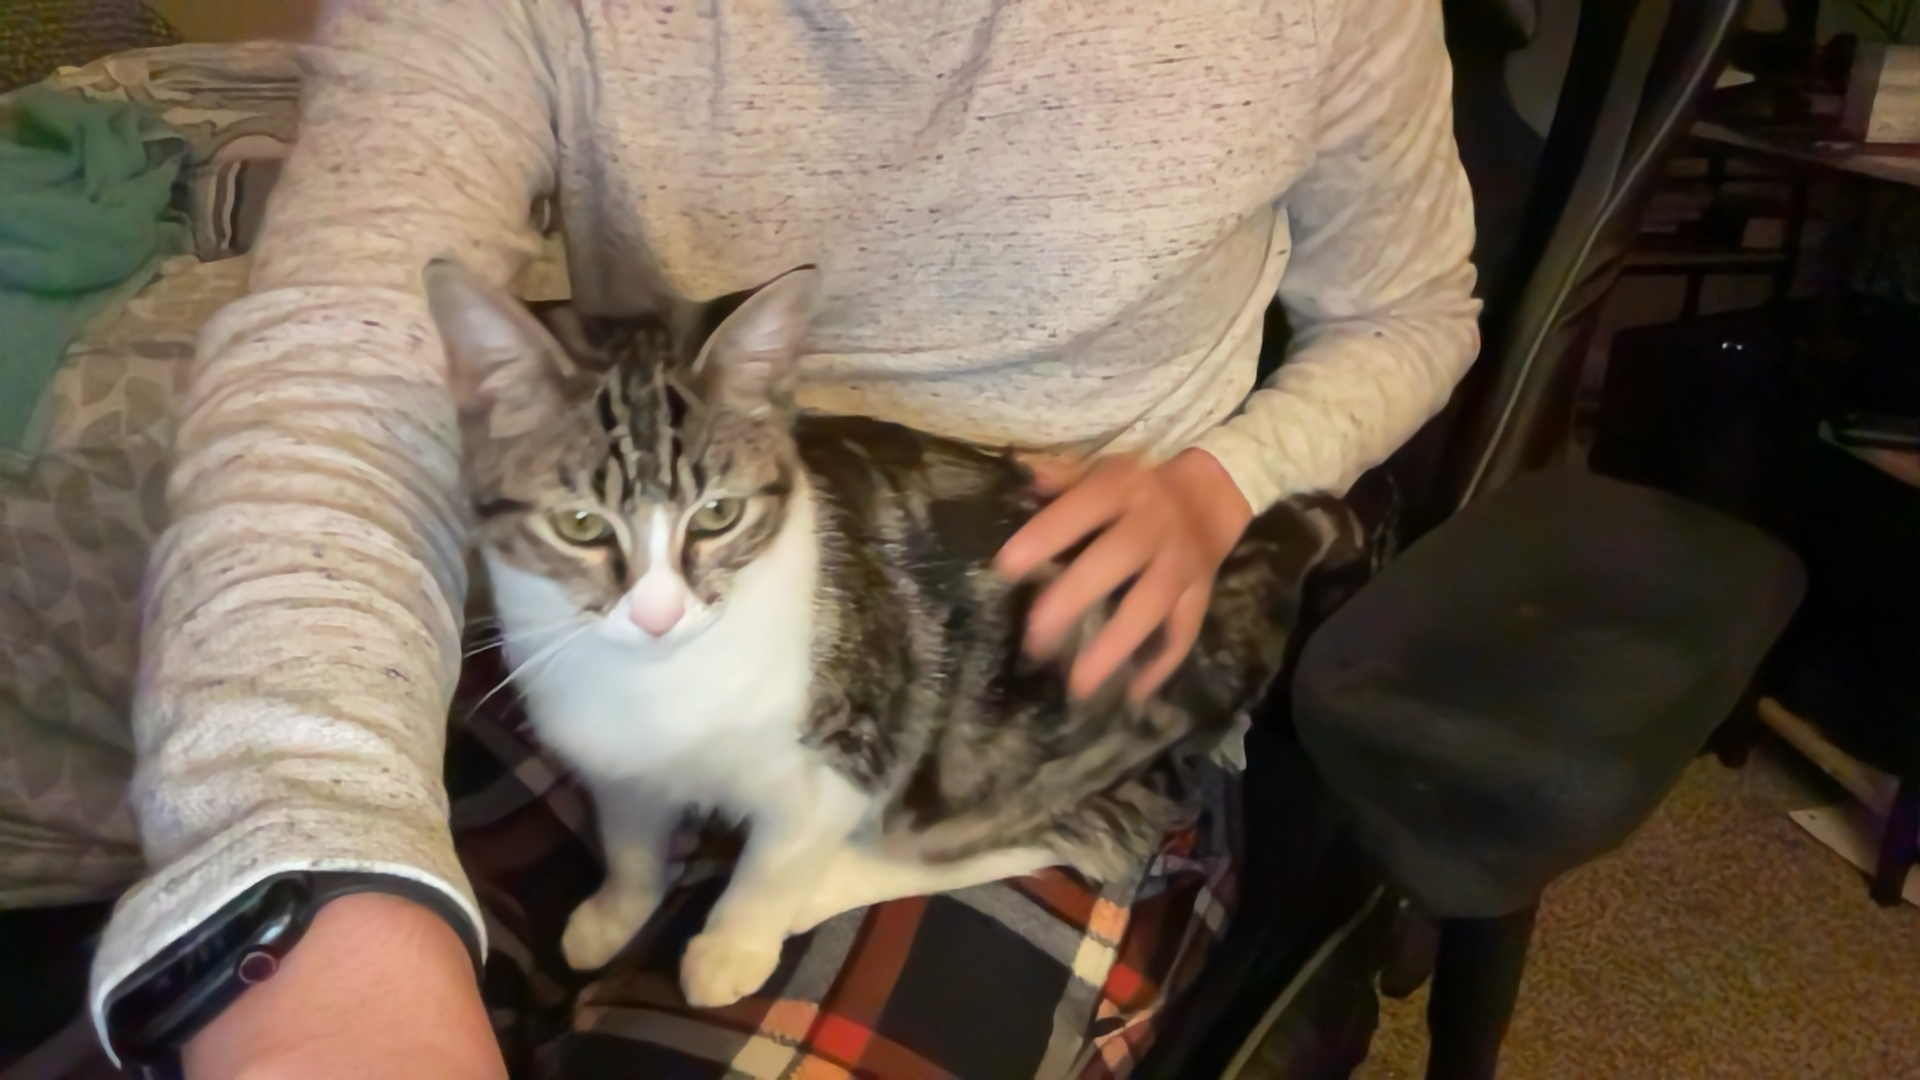cat: (417, 237, 1348, 1015)
